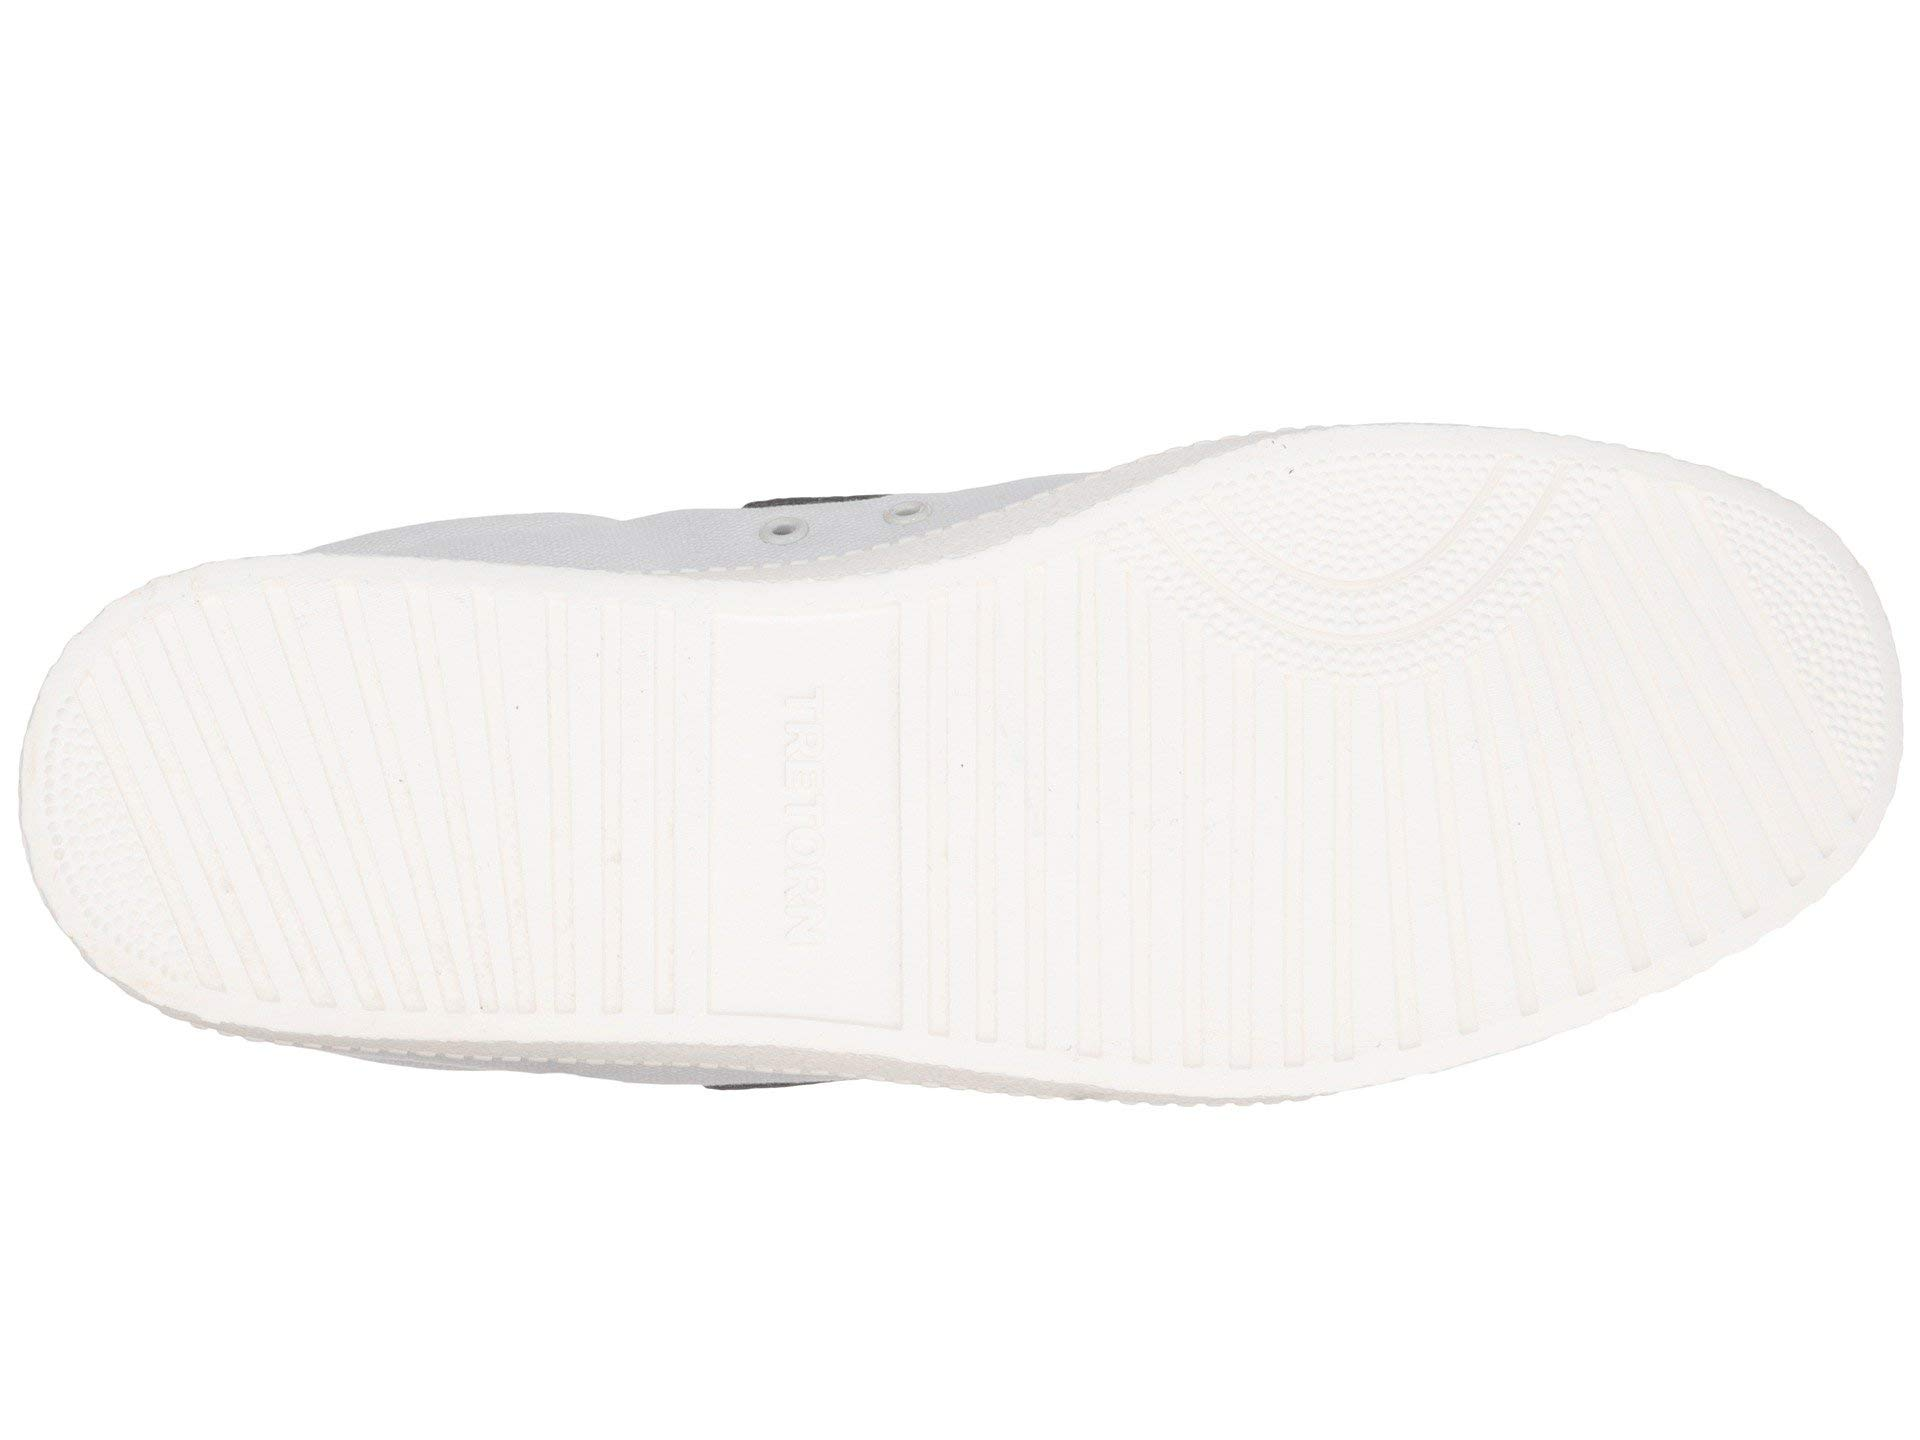circle: (1028, 421, 1627, 635), (705, 582, 933, 1039), (29, 744, 218, 982)
line: (1043, 667, 1671, 967), (1028, 421, 1627, 635), (29, 744, 218, 982)
quad: (705, 582, 933, 1039)
text: (705, 582, 933, 1039)
